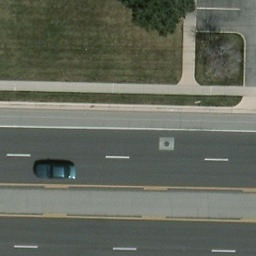car: (33, 162, 77, 180)
